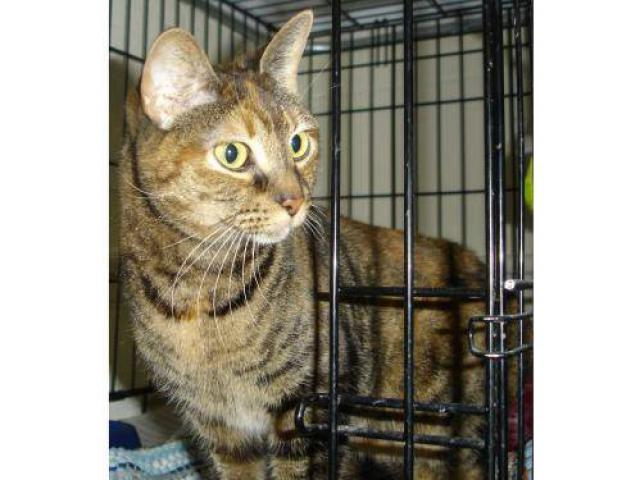cat: (122, 6, 490, 477)
